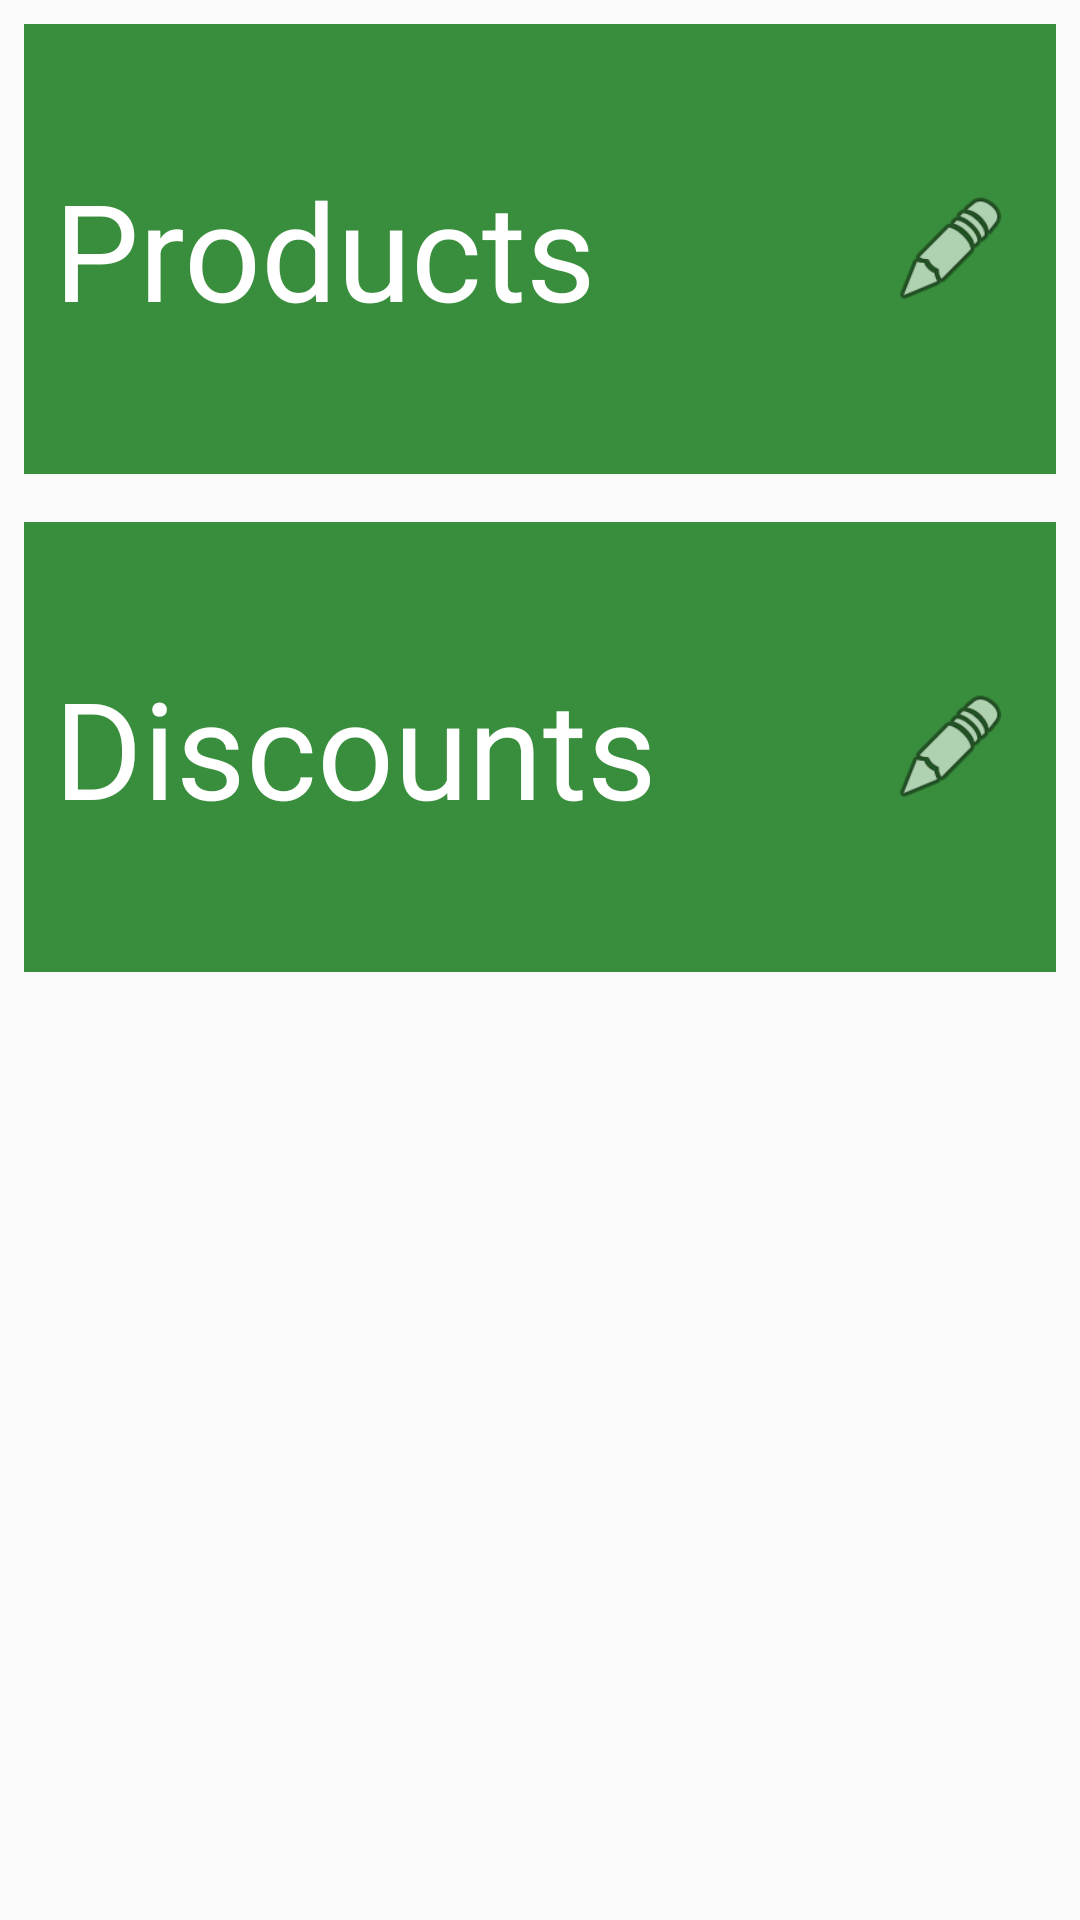

Where icons sit on this 1080*1920 app screen, as detection(x1, y1, x2, y2):
edit: detection(900, 198, 1001, 299), detection(900, 696, 1001, 797)
